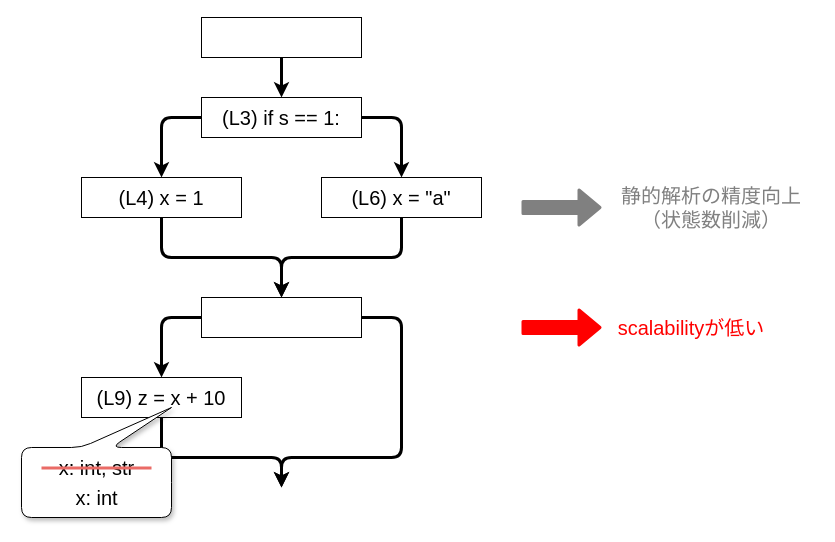
Image size: 835x542. Some labels were removed from this diagram. The shapes that lost their labels are listed below. From the top down, each one's centre as x and y in pixels, then its label:
At (x=281, y=37): "(L1) s = int()".
At (x=281, y=317): "(L8) if x == 1:".
